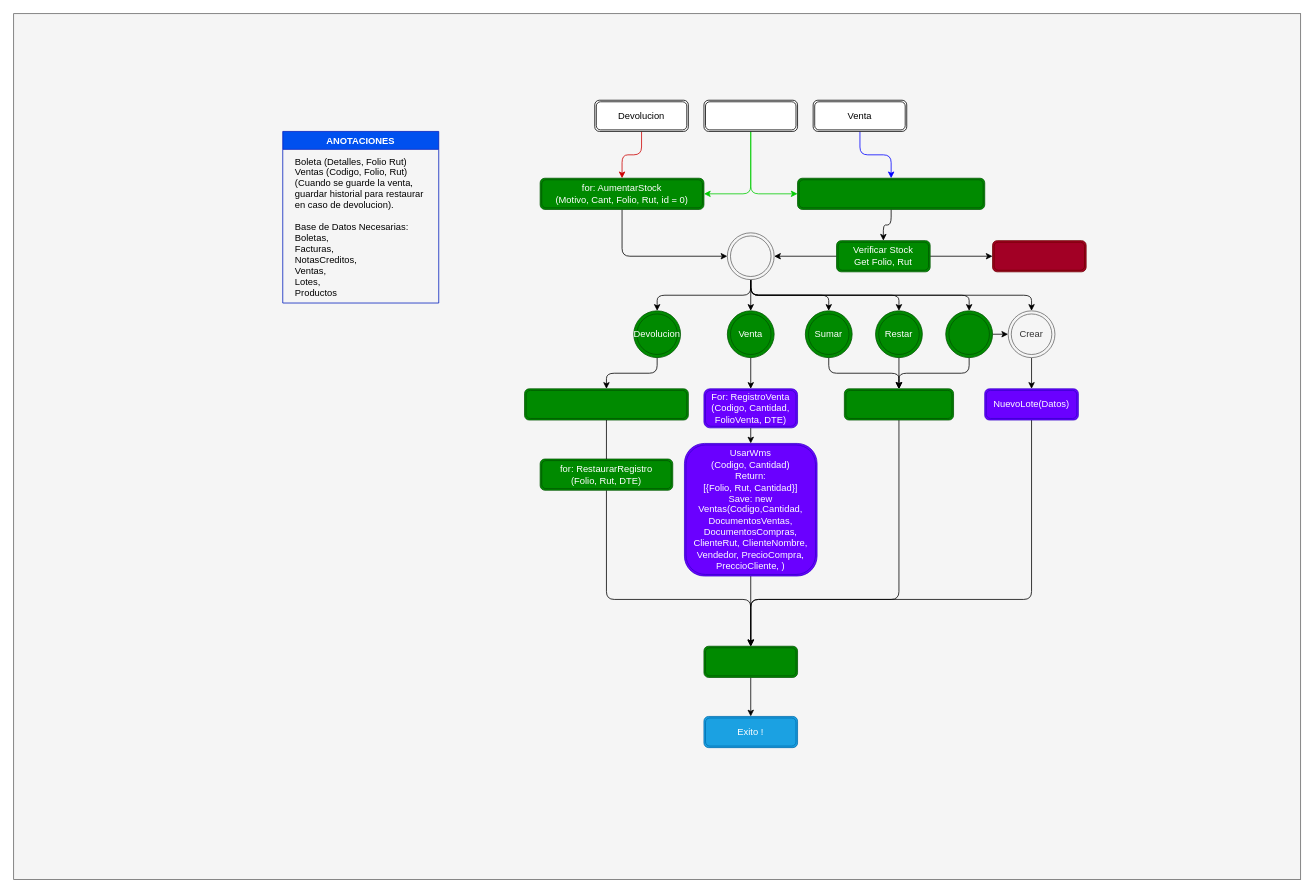
The diagram is 1314 pixels wide and 893 high, and some of its shapes have lost their labels. The centre of each missing label's shape, as x and y in pixels:
"Actualizar Stock" belongs at (750,661).
"DevolucionStock (IdDoc, DTE)" belongs at (606,404).
"DisminuirStock (Motivo, Codigo, Cant, Folio, Rut, id = 0)" belongs at (891,193).
"Eliminar" belongs at (969,334).
"GestionarLote(id)" belongs at (899,404).
"Motivo" belongs at (750,256).
"No hay suficiente Stock" belongs at (1039,256).
"WMS" belongs at (750,115).
